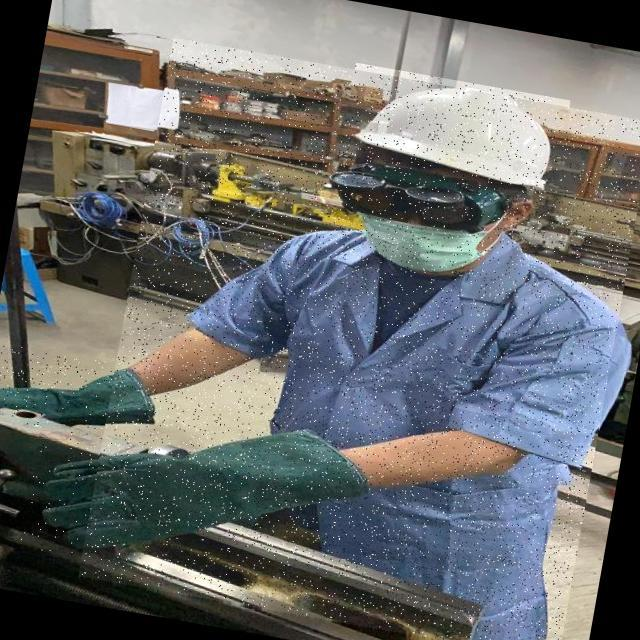Helmet: (339, 63, 571, 197)
Person: (0, 28, 637, 640)
no-vest: (185, 225, 634, 640), (33, 414, 374, 573), (0, 358, 163, 431)
